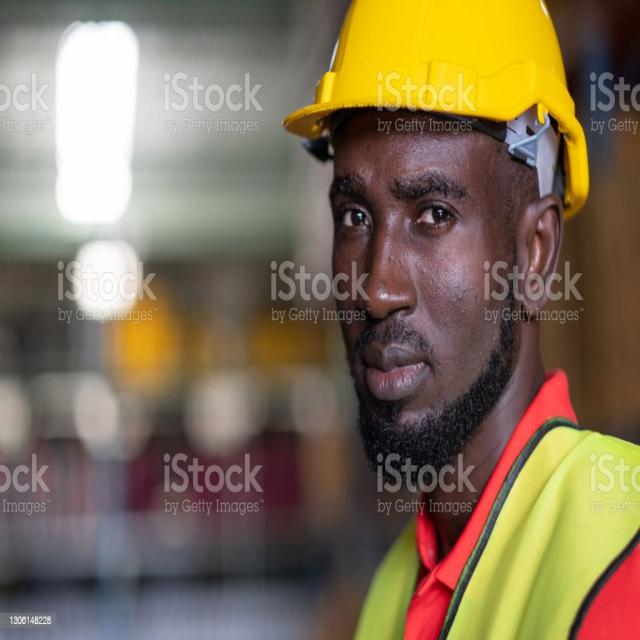helmet: (280, 0, 594, 221)
no-goggles: (328, 190, 481, 264)
vest: (350, 401, 640, 639)
